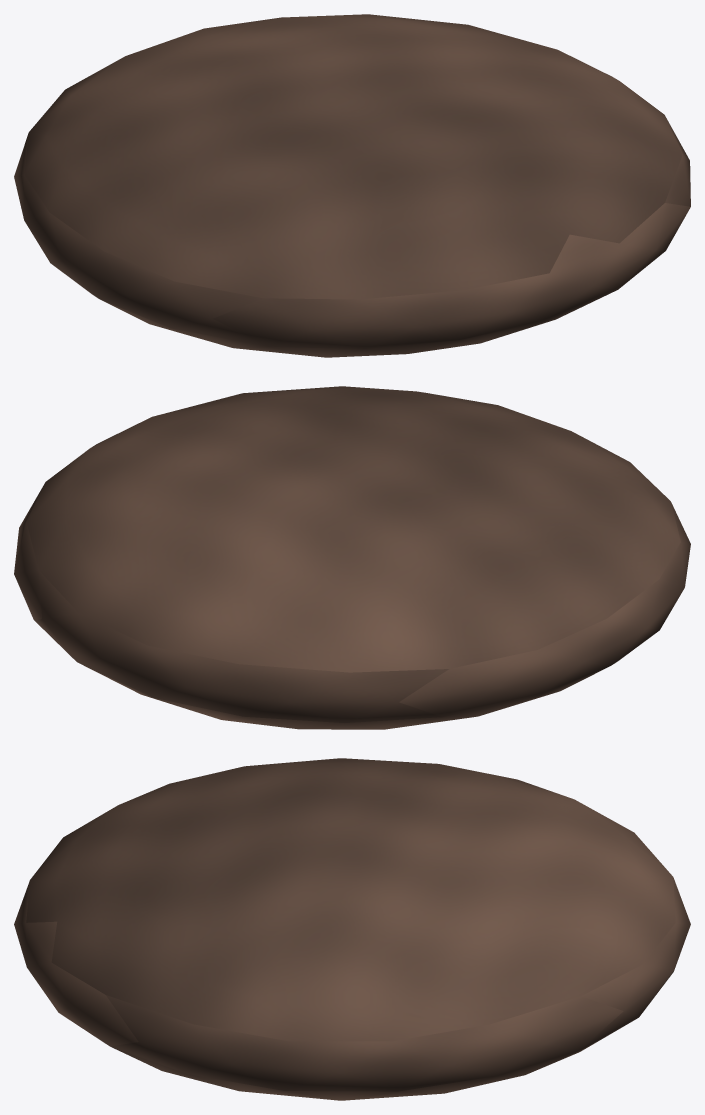
The model's file is charcoal_mound.glb.
The picture shows the model from 3 angles, top to bottom: view 1: azimuth 30°, elevation 25°; view 2: azimuth 150°, elevation 25°; view 3: azimuth 270°, elevation 25°; orthographic projection.
Visible parts, largest first — view 1: charcoal_mound.001; view 2: charcoal_mound.001; view 3: charcoal_mound.001.
Boxes of the visible parts, bbox=[...] form: charcoal_mound.001: bbox=[14, 14, 690, 357]; charcoal_mound.001: bbox=[14, 386, 690, 729]; charcoal_mound.001: bbox=[14, 758, 690, 1100].
Size of the model in its own units: 5.2 by 1.6 by 5.2.
Materials: 1 (1 with a texture image).
